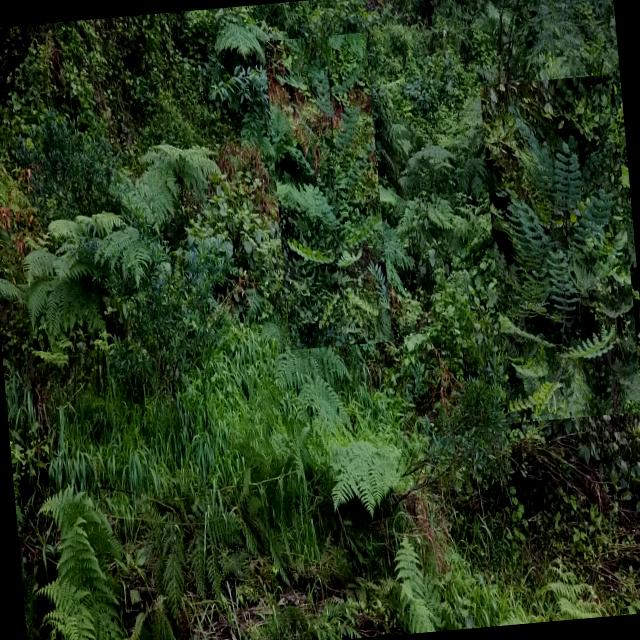Mysore-Thorn-Weed: (479, 74, 640, 423), (264, 32, 392, 350)
